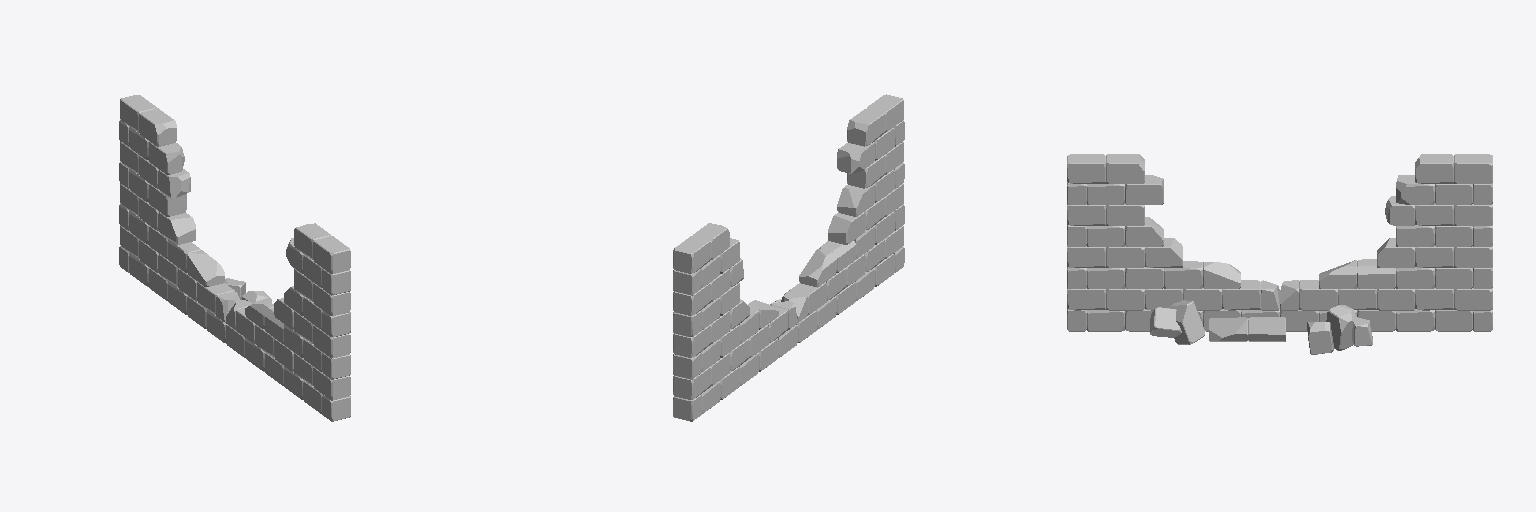
The model's file is Parede quebrada 1.obj.
The picture shows the model from 3 angles: view 1: azimuth 30°, elevation 25°; view 2: azimuth 150°, elevation 25°; view 3: azimuth 270°, elevation 25°; orthographic projection.
Parts seen in each view (by area): view 1: Cube.051; view 2: Cube.051; view 3: Cube.051.
Part boxes in pixels (left/top/right/bottom): Cube.051: left=119, top=95, right=350, bottom=421; Cube.051: left=673, top=94, right=904, bottom=421; Cube.051: left=1067, top=154, right=1492, bottom=354.
Size of the model in its own units: 0.9176 by 2.49 by 5.5.